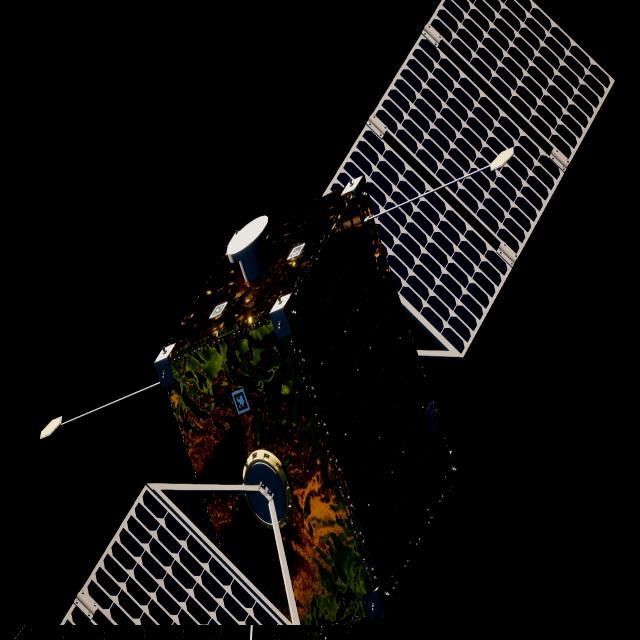medium_debris: (43, 0, 615, 640)
